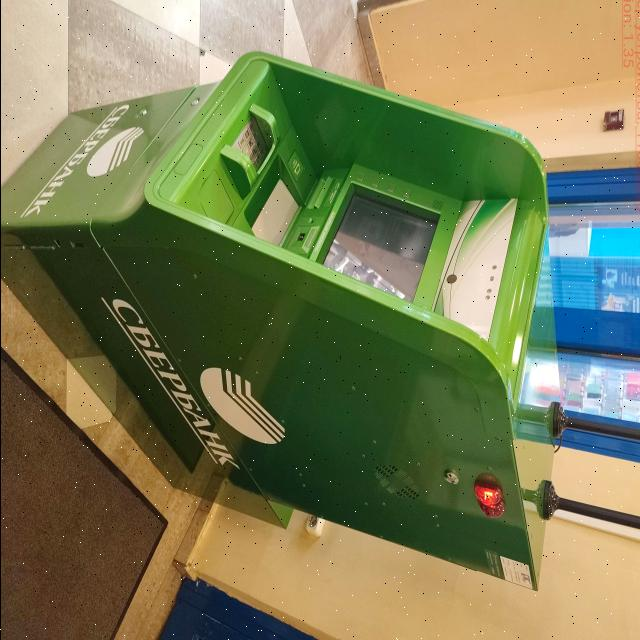bank: (0, 51, 559, 584)
